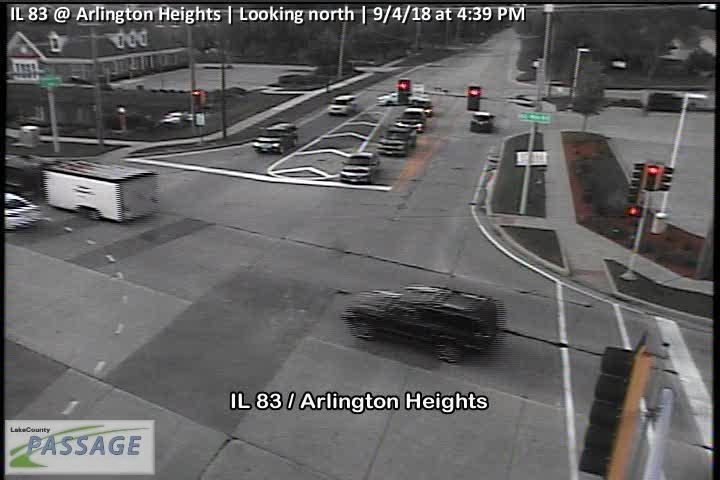SUV: (339, 284, 501, 364), (252, 122, 299, 154), (339, 151, 379, 186), (376, 127, 417, 157), (394, 108, 425, 134), (326, 95, 356, 116), (470, 111, 496, 134)
Truck: (6, 152, 160, 223)
